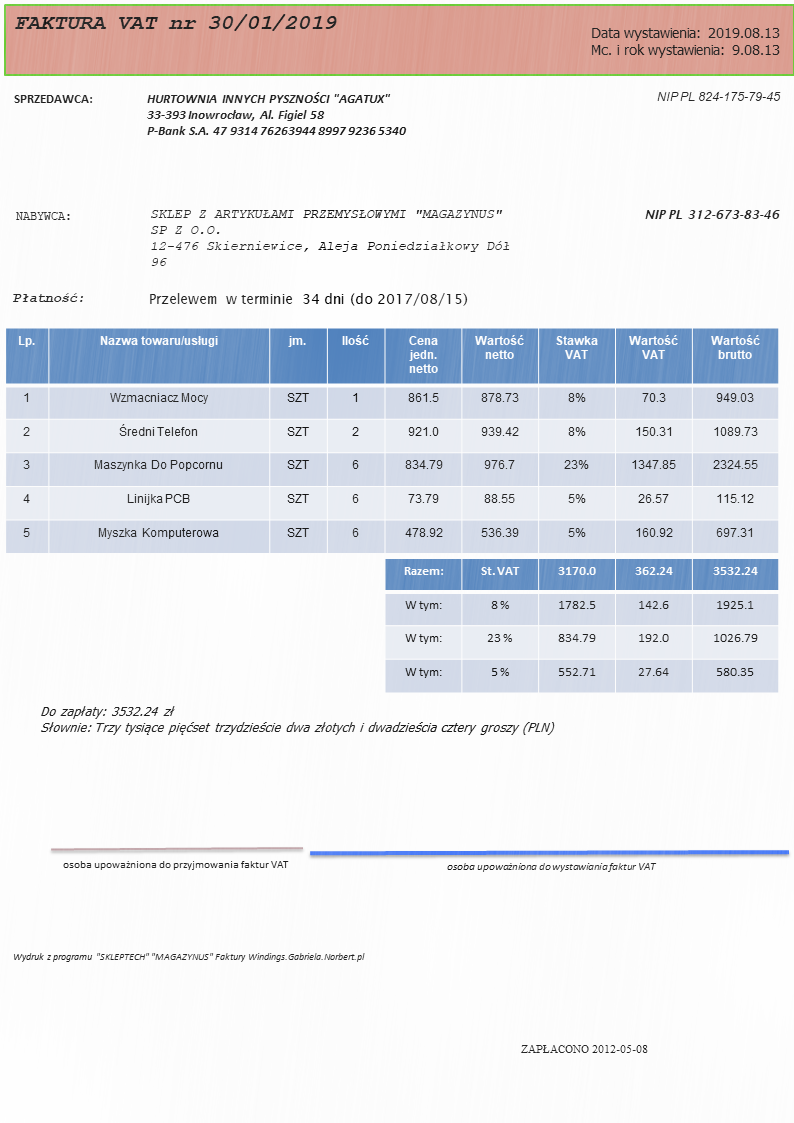Table: (4, 326, 780, 555), (384, 557, 780, 693), (38, 702, 556, 738)
TextBox: (146, 205, 513, 270), (144, 91, 408, 139), (12, 10, 338, 35), (587, 23, 782, 58), (146, 290, 469, 308), (10, 949, 367, 965), (59, 858, 290, 872), (444, 860, 658, 874), (641, 206, 782, 223), (654, 88, 782, 105), (519, 1041, 649, 1055), (11, 91, 94, 107), (11, 289, 85, 306), (12, 208, 73, 222)
